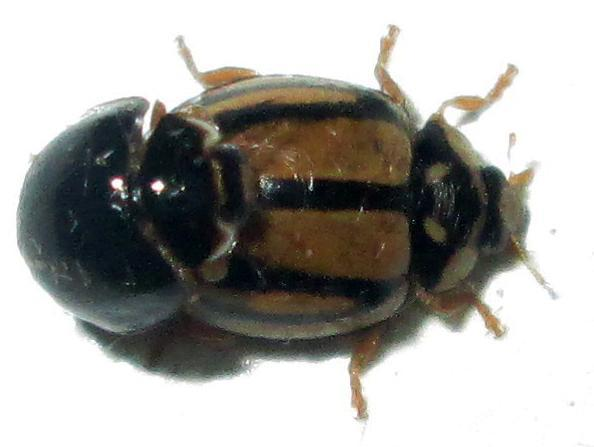ladybug: (151, 20, 564, 427), (14, 91, 286, 342)
